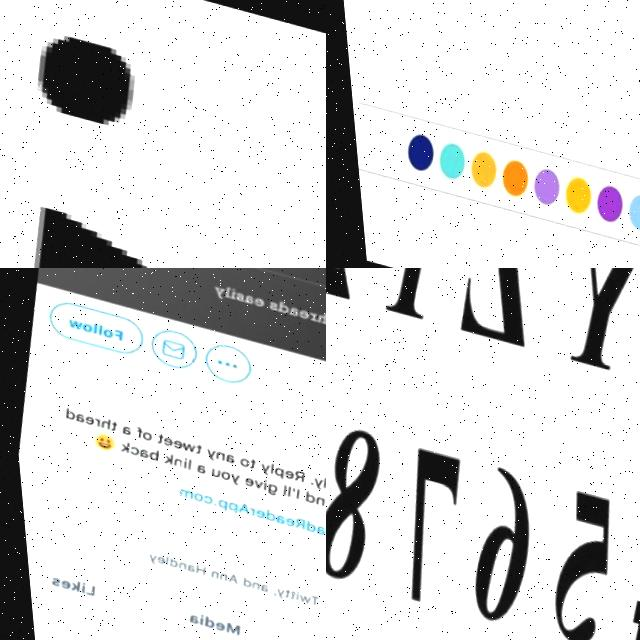1: (355, 268, 470, 343)
4: (596, 477, 640, 640)
5: (515, 457, 640, 640)
6: (431, 429, 562, 640)
7: (351, 410, 489, 633)
8: (326, 385, 404, 595)
I: (0, 0, 251, 268)
